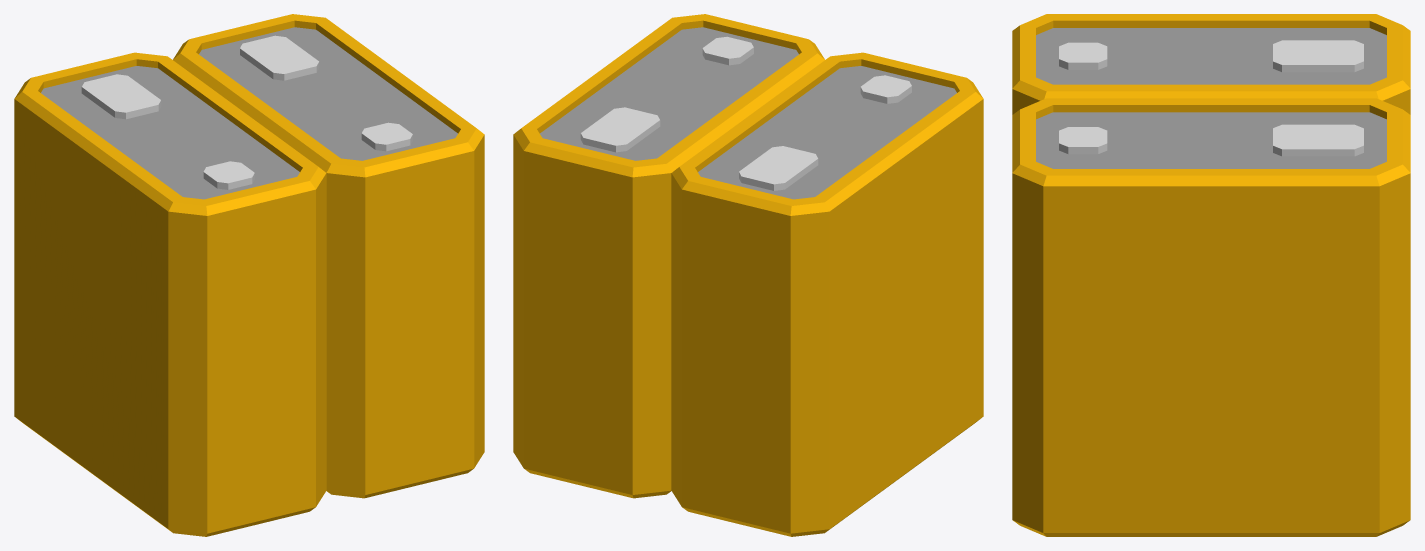
File: epe_battery_cell_dual.dae
3 renders of one model, left to right at view 1: azimuth 30°, elevation 25°; view 2: azimuth 150°, elevation 25°; view 3: azimuth 270°, elevation 25°, orthographic. The views are drawn at different scales.
Visible parts, largest first — view 1: battery_cell_dual; view 2: battery_cell_dual; view 3: battery_cell_dual.
Part boxes in pixels (x1,y1,x2,y2): battery_cell_dual: (14,14,484,536); battery_cell_dual: (513,14,983,536); battery_cell_dual: (1012,14,1410,536).
Bounding box in the file's own units: 0.25 × 0.25 × 0.25.
